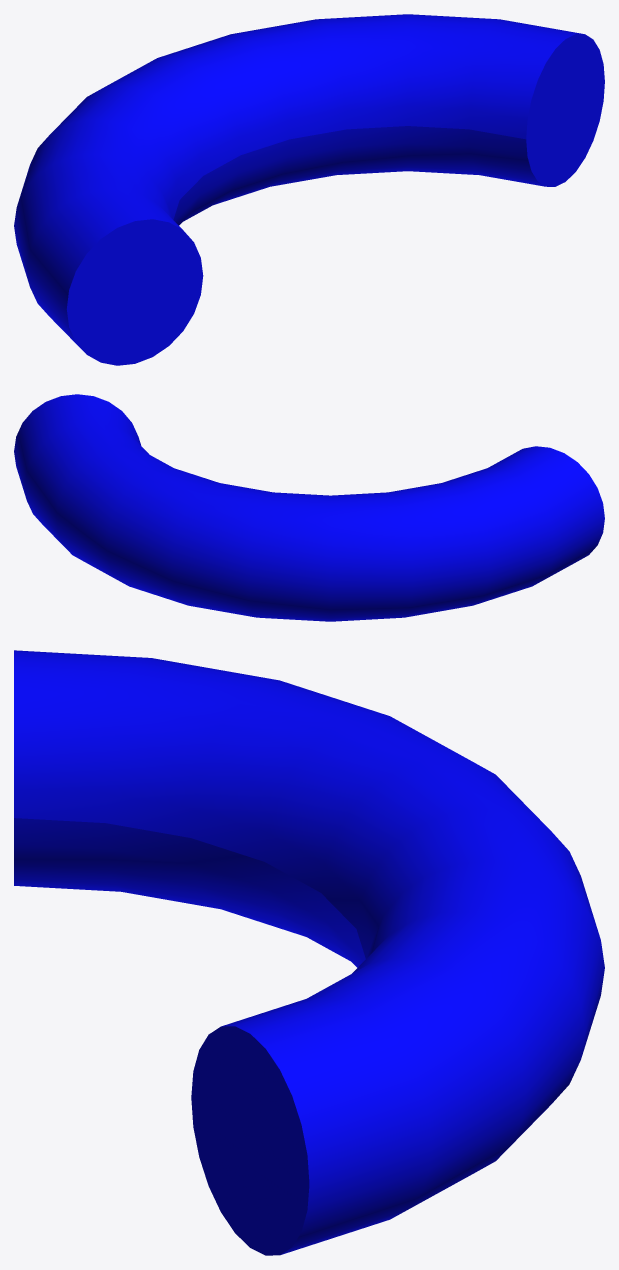
The model's file is occupying_Blue.fbx.
3 views of the same model, one above another, from view 1: azimuth 30°, elevation 25°; view 2: azimuth 150°, elevation 25°; view 3: azimuth 270°, elevation 25° (orthographic). The views are drawn at different scales.
Parts seen in each view (by area): view 1: SketchUp; view 2: SketchUp; view 3: SketchUp.
Boxes of the visible parts, x1,y1,x2,y2 form: SketchUp: [14, 14, 604, 365]; SketchUp: [14, 394, 604, 621]; SketchUp: [14, 650, 604, 1255].
Size of the model in its own units: 467 by 100 by 250.
